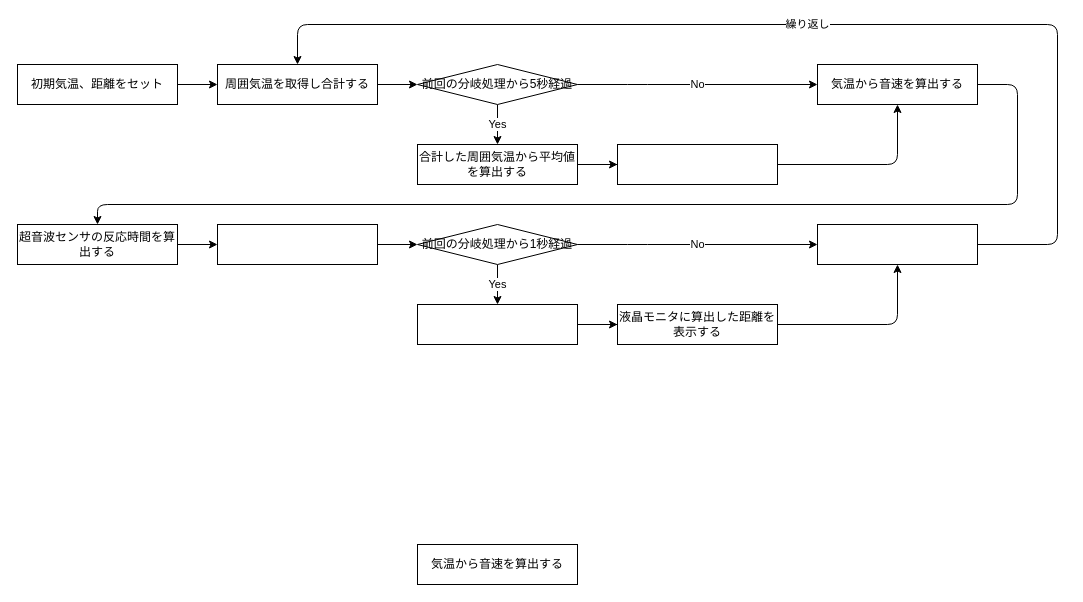
The diagram is 1083 pixels wide and 602 high, and some of its shapes have lost their labels. The shapes that lost their labels are listed below. From the top down, each one's centre as x and y in pixels, then its label:
pixel 697 164: 液晶モニタに算出した気温を表示する
pixel 297 244: 反応時間と音速から距離を算出し合計する
pixel 897 244: 0.2秒待機
pixel 497 324: 合計した距離から平均値を算出する
